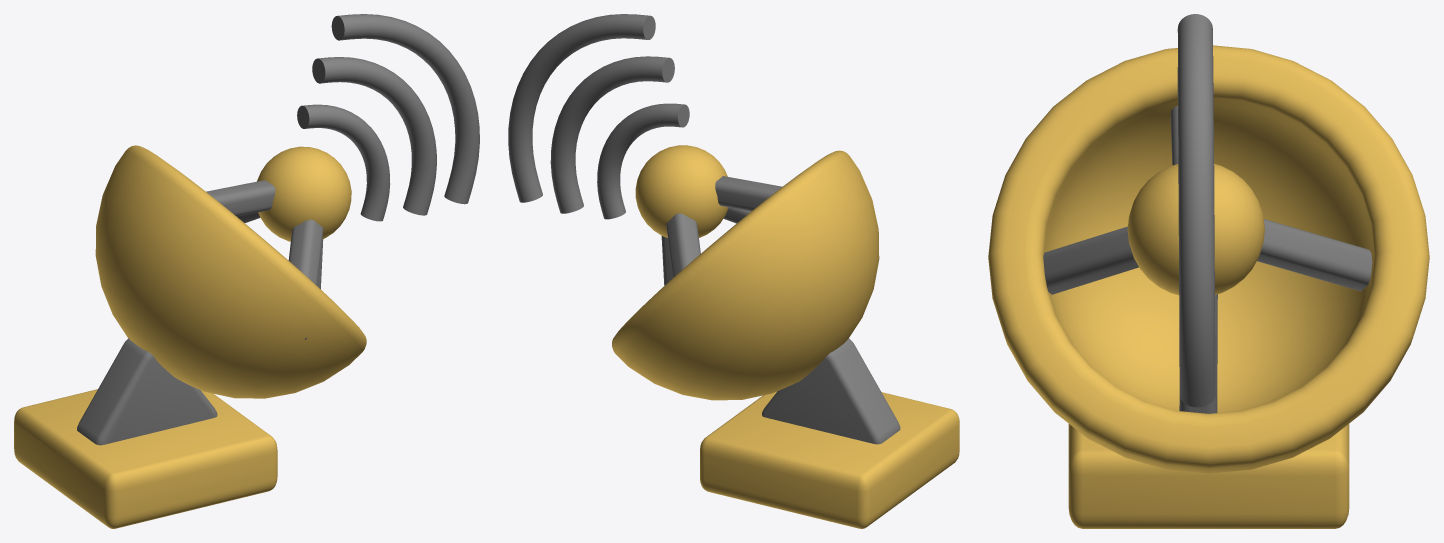
3 renders of one model, left to right at view 1: azimuth 30°, elevation 25°; view 2: azimuth 150°, elevation 25°; view 3: azimuth 270°, elevation 25°, orthographic. The views are drawn at different scales.
Visible parts, largest first — view 1: Sphere, Plane, Circle.002, Plane.001, Sphere.001, Cube; view 2: Sphere, Plane, Circle.002, Plane.001, Sphere.001, Cube; view 3: Sphere, Plane, Circle.002, Sphere.001, Cube.
Part boxes in pixels (x1,y1,x2,y2): Sphere: (95,145,366,398); Plane: (14,389,277,528); Circle.002: (297,14,479,221); Plane.001: (77,338,217,445); Sphere.001: (257,146,351,241); Cube: (206,180,323,339); Sphere: (612,150,879,400); Plane: (700,391,959,528); Circle.002: (508,14,689,219); Plane.001: (762,338,900,444); Sphere.001: (635,145,728,237); Cube: (661,176,782,285); Sphere: (988,45,1429,473); Plane: (1068,424,1349,528); Circle.002: (1177,14,1215,407); Sphere.001: (1127,164,1264,295); Cube: (1043,106,1372,413).
Bounding box in the file's own units: 3.21 × 3.09 × 2.09.
